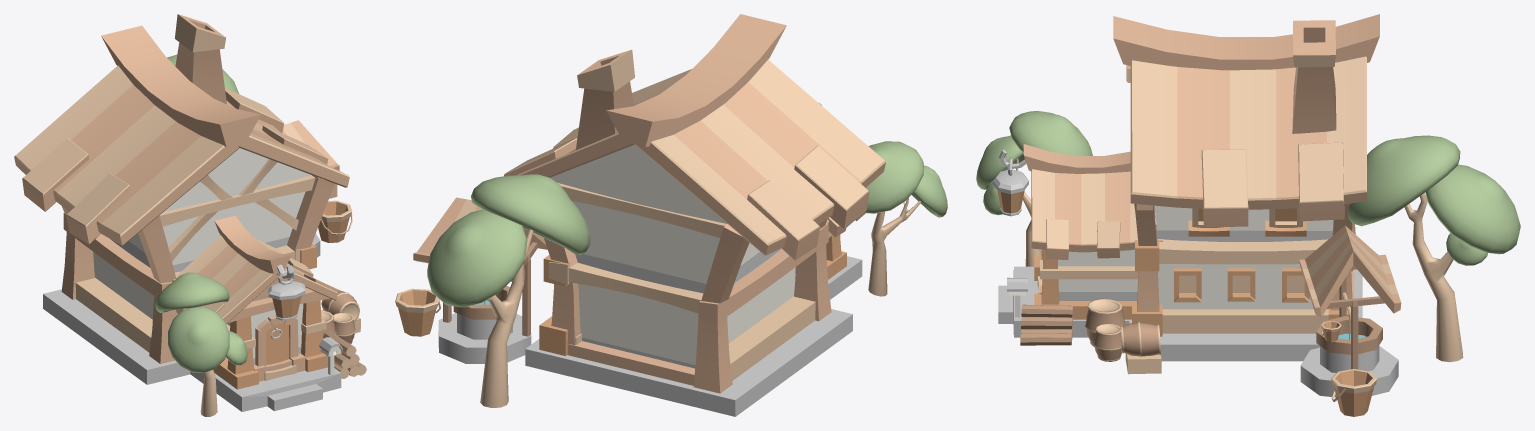
The model's file is house01level06.fbx.
3 views of the same model, side by side, from view 1: azimuth 30°, elevation 25°; view 2: azimuth 150°, elevation 25°; view 3: azimuth 270°, elevation 25° (orthographic). The views are drawn at different scales.
Visible parts, largest first — view 1: pCube5 (×2), pCube1, polySurface110, polySurface5, tree_10, pCube4 (×2), polySurface71, polySurface139, polySurface128, pTorus5, polySurface57, polySurface116 (+23 smaller); view 2: pCube5, tree_9, polySurface110, pCube1, polySurface105, polySurface5, tree_10, polySurface71, polySurface373, polySurface139, pCube4, polySurface57 (+11 smaller); view 3: pCube4 (×2), tree_9, polySurface5, pCube1, tree_10, polySurface71, polySurface372, polySurface373, polySurface105, polySurface18, polySurface379, polySurface14 (+19 smaller).
Part boxes in pixels (<box>): pCube5 (×2): <box>14,65,278,324</box>; pCube1: <box>43,289,341,411</box>; polySurface110: <box>110,148,311,272</box>; polySurface5: <box>101,25,260,146</box>; tree_10: <box>155,272,247,416</box>; pCube4 (×2): <box>225,88,349,300</box>; polySurface71: <box>175,14,226,104</box>; polySurface139: <box>75,278,152,352</box>; polySurface128: <box>159,175,315,226</box>; pTorus5: <box>214,215,293,278</box>; polySurface57: <box>63,212,172,297</box>; polySurface116: <box>287,175,334,251</box>; pCube5: <box>635,59,885,260</box>; tree_9: <box>427,174,590,407</box>; polySurface110: <box>550,144,781,293</box>; pCube1: <box>525,256,862,416</box>; polySurface105: <box>578,268,794,368</box>; polySurface5: <box>606,14,786,146</box>; tree_10: <box>864,141,947,296</box>; polySurface71: <box>576,49,634,149</box>; polySurface373: <box>438,285,531,363</box>; polySurface139: <box>728,296,815,380</box>; pCube4: <box>504,69,691,177</box>; polySurface57: <box>698,223,828,323</box>; pCube4 (×2): <box>1031,56,1366,260</box>; tree_9: <box>1348,135,1520,362</box>; polySurface5: <box>1113,14,1379,70</box>; pCube1: <box>998,266,1362,361</box>; tree_10: <box>976,111,1092,266</box>; polySurface71: <box>1292,20,1336,133</box>; polySurface372: <box>1299,225,1401,317</box>; polySurface373: <box>1300,316,1398,397</box>; polySurface105: <box>1158,264,1328,309</box>; polySurface18: <box>1162,309,1328,333</box>; polySurface379: <box>1085,298,1161,374</box>; polySurface14: <box>1137,236,1327,264</box>.
Size of the model in its own units: 14.25 by 11.01 by 17.57.
